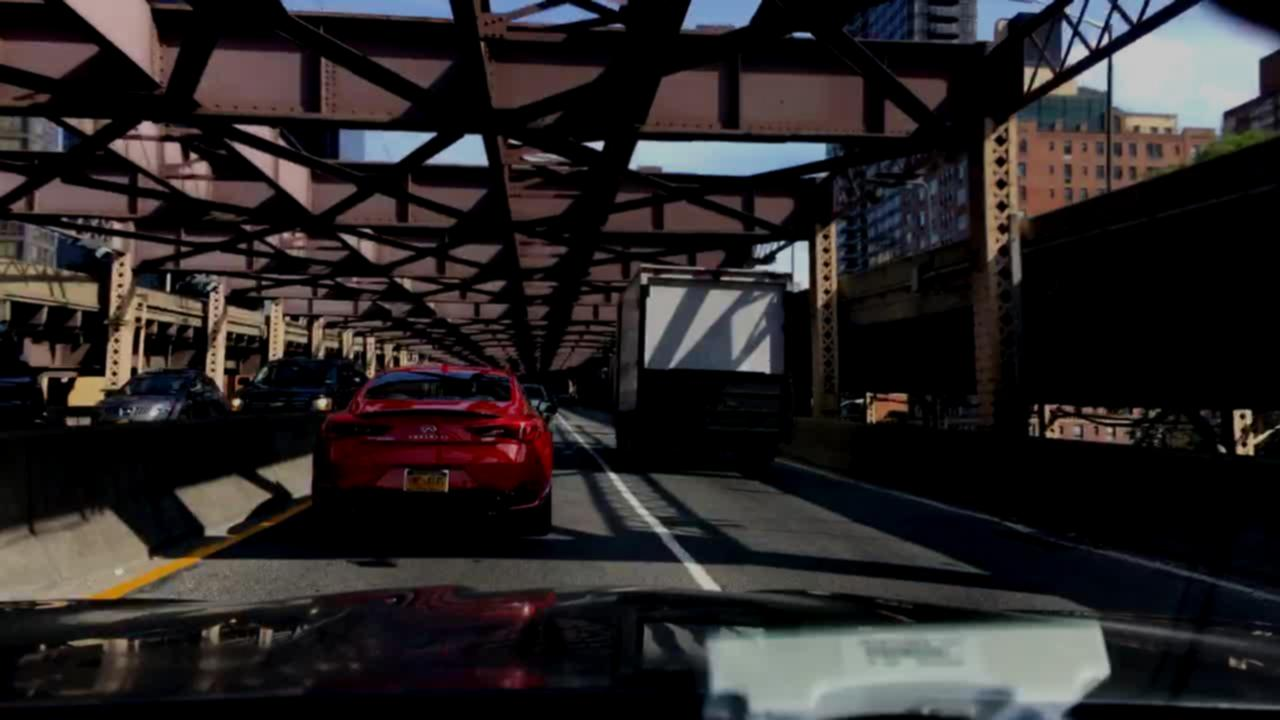Infiniti: (411, 416, 446, 437)
